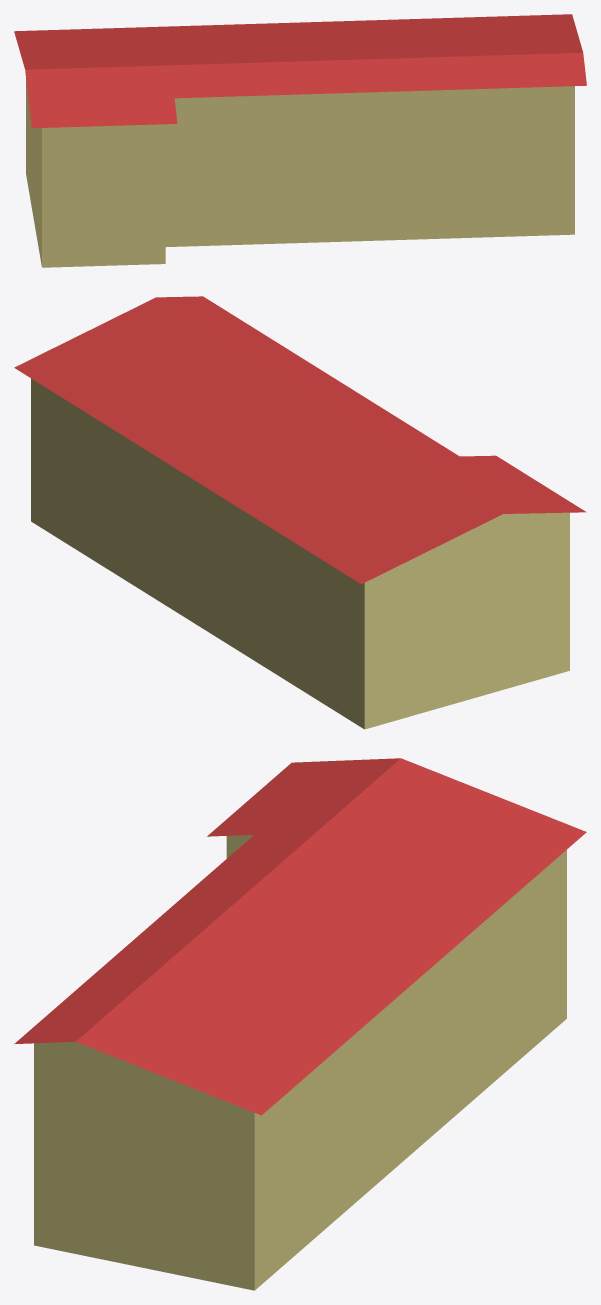
3 renders of one model, top to bottom at view 1: azimuth 30°, elevation 25°; view 2: azimuth 150°, elevation 25°; view 3: azimuth 270°, elevation 25°, orthographic. The views are drawn at different scales.
Bounding box in the file's own units: 27.4 × 19.29 × 8.14.
